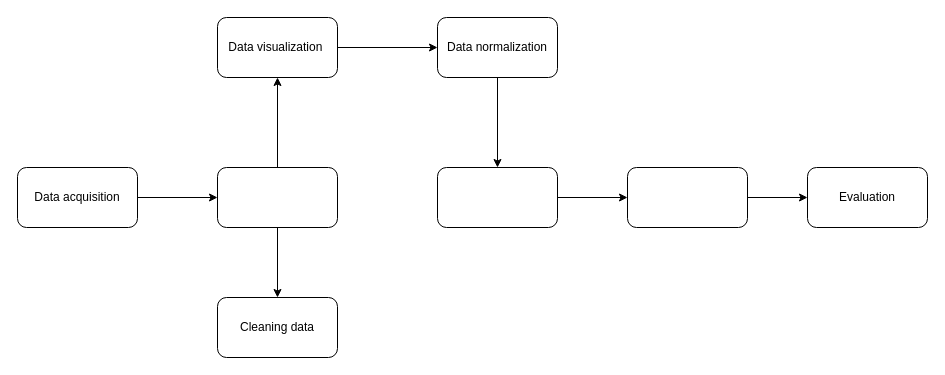
Some shapes in this 945 by 375 pixel diagram are drawn without their labels. The shapes that lost their labels are listed below. From the top down, each one's centre as x and y in pixels, then its label:
pixel 277 197: Data preparation
pixel 497 197: Model Traning
pixel 687 197: Model Testing
